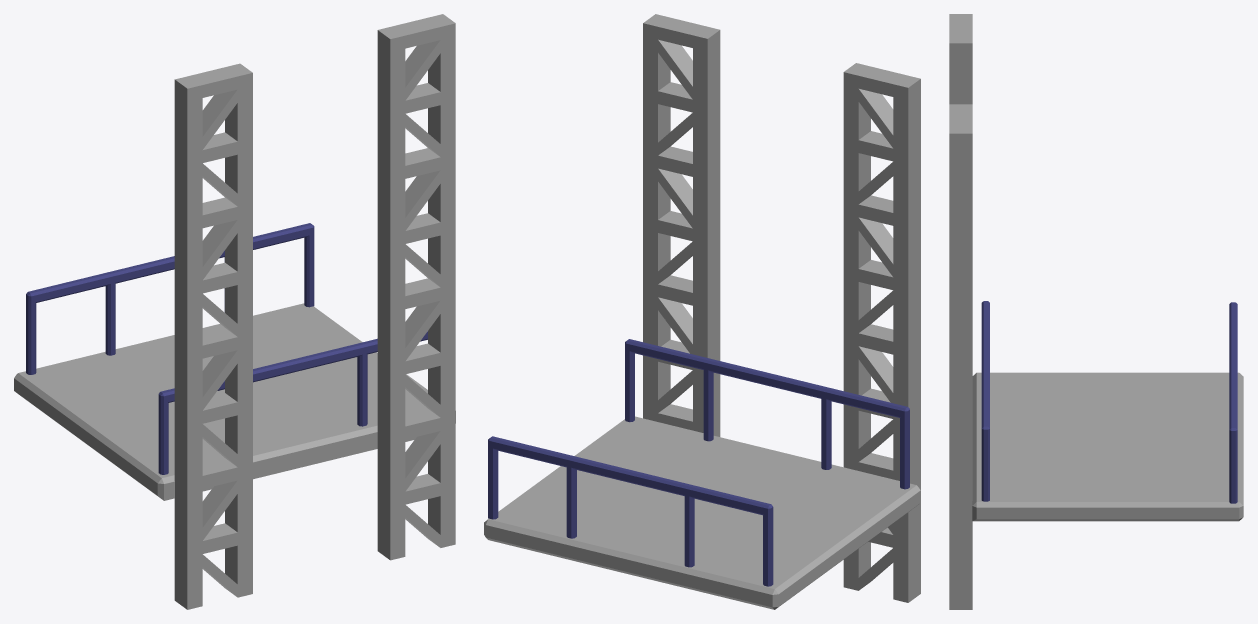
File: shortcut_lift.fbx
3 views of the same model, side by side, from view 1: azimuth 30°, elevation 25°; view 2: azimuth 150°, elevation 25°; view 3: azimuth 270°, elevation 25° (orthographic). The views are drawn at different scales.
Parts seen in each view (by area): view 1: shortcut_opora, shortcut_floor; view 2: shortcut_opora, shortcut_floor; view 3: shortcut_floor, shortcut_opora.
Part boxes in pixels (x1,y1,x2,y2): shortcut_opora: (174, 14, 455, 609); shortcut_floor: (14, 223, 455, 500); shortcut_opora: (643, 14, 920, 602); shortcut_floor: (484, 339, 920, 609); shortcut_floor: (972, 301, 1243, 521); shortcut_opora: (949, 14, 972, 609).
Bounding box in the file's own units: 317 × 529 × 296.
